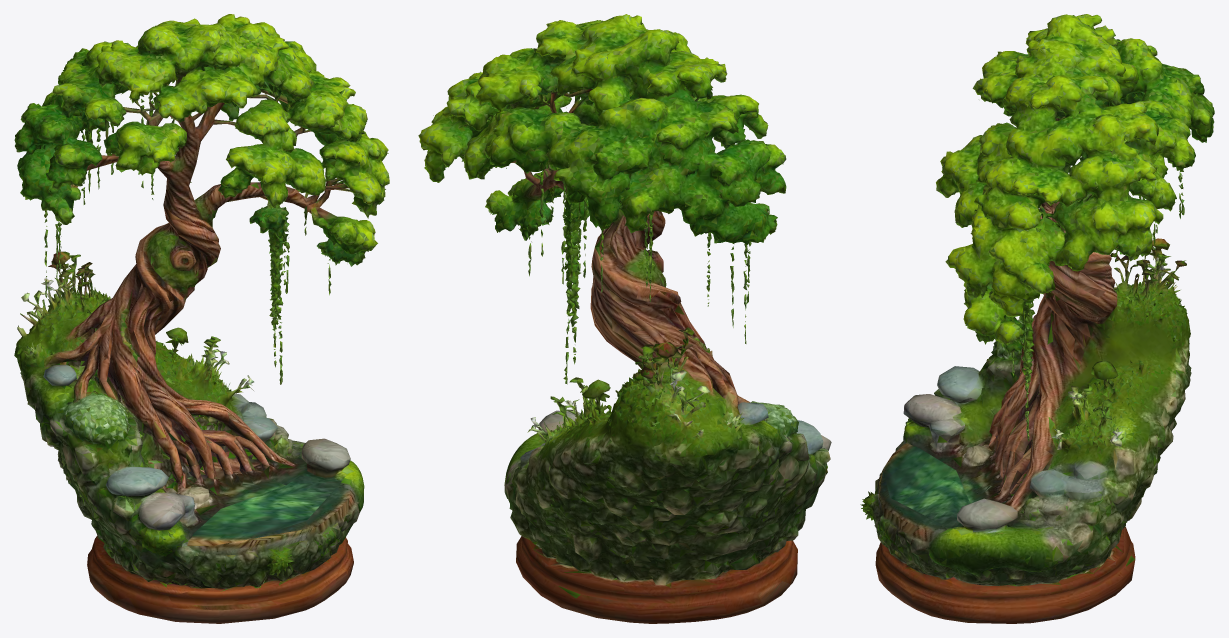
The model's file is Whispering_Willow_of_.glb.
3 views of the same model, side by side, from view 1: azimuth 30°, elevation 25°; view 2: azimuth 150°, elevation 25°; view 3: azimuth 270°, elevation 25° (orthographic). The views are drawn at different scales.
Parts seen in each view (by area): view 1: Whispering_Willow_of_; view 2: Whispering_Willow_of_; view 3: Whispering_Willow_of_.
Part boxes in pixels (x1,y1,x2,y2): Whispering_Willow_of_: (14,14,389,623); Whispering_Willow_of_: (418,14,831,623); Whispering_Willow_of_: (860,14,1214,623).
Bounding box in the file's own units: 1.25 × 1.9 × 1.13.
1 material, 1 textured.
